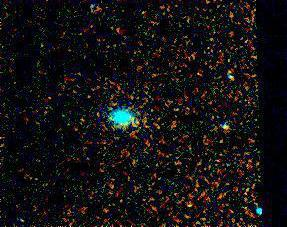star: (120, 113, 150, 143)
